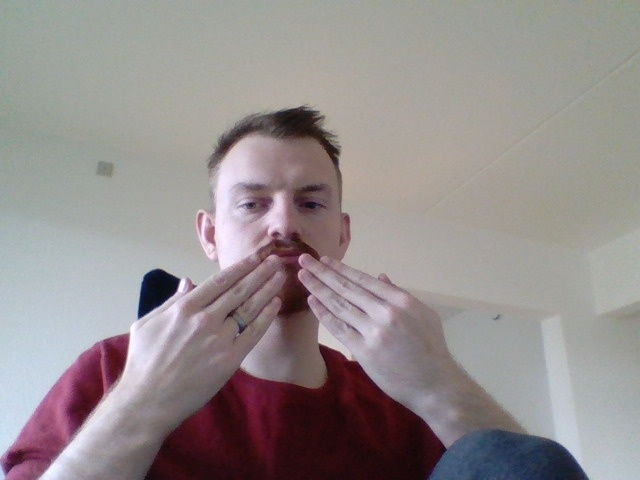ThankYou: (125, 252, 450, 415)
